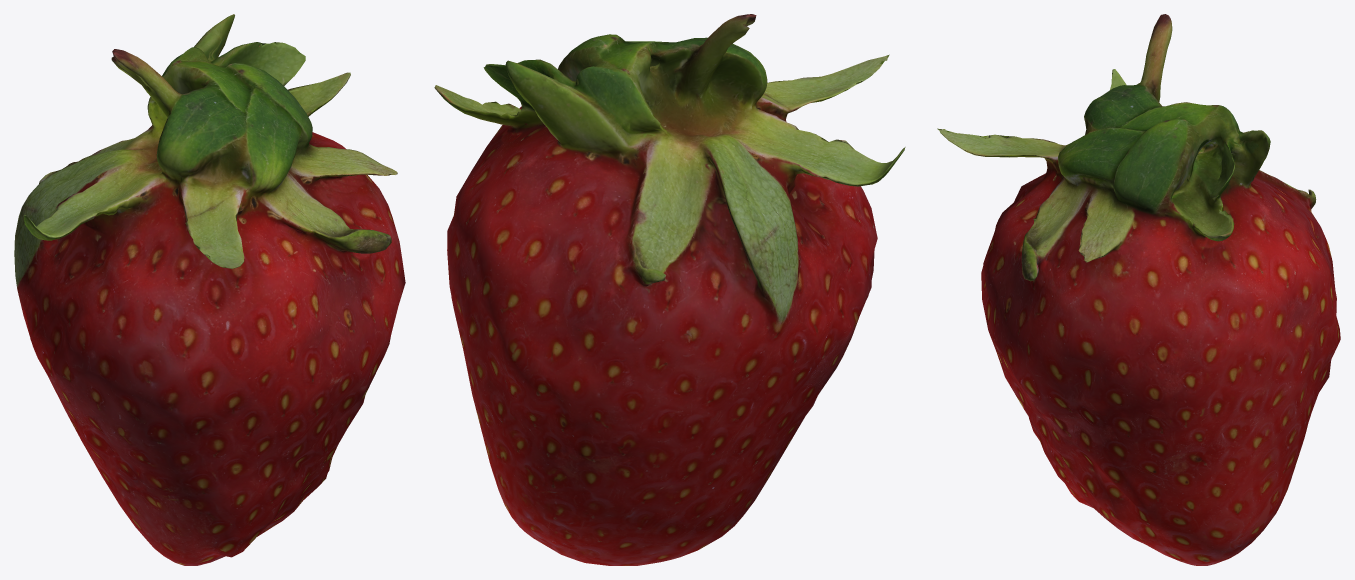
3 views of the same model, side by side, from view 1: azimuth 30°, elevation 25°; view 2: azimuth 150°, elevation 25°; view 3: azimuth 270°, elevation 25° (orthographic). The views are drawn at different scales.
Parts seen in each view (by area): view 1: Object_3; view 2: Object_3; view 3: Object_3.
Boxes of the visible parts, box(x1,y1,x2,y2) form: Object_3: box(14, 14, 405, 565); Object_3: box(434, 14, 905, 565); Object_3: box(937, 14, 1340, 565).
Size of the model in its own units: 1.52 by 2.01 by 1.51.
Materials: 1 (1 with a texture image).
